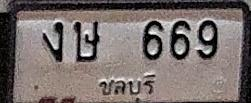6: (142, 20, 163, 60), (170, 20, 190, 60)
9: (197, 19, 218, 59)
A07: (42, 21, 63, 61)
A39: (73, 20, 100, 61)
CBI: (97, 70, 158, 103)
